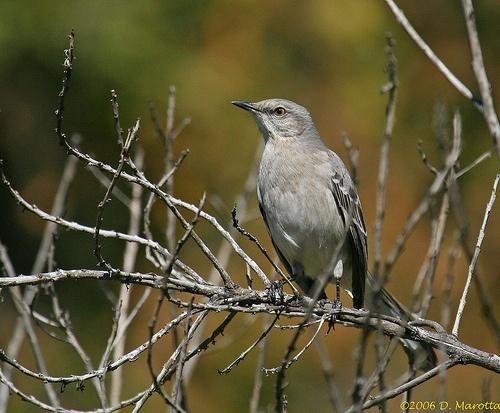bird: (231, 98, 370, 313)
